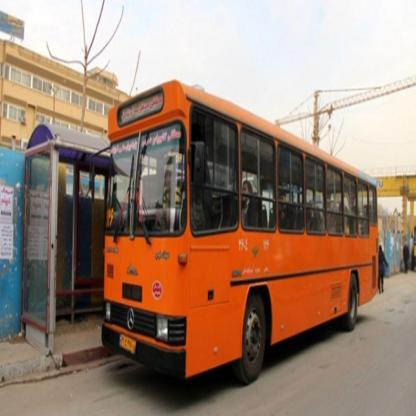Bus: (95, 72, 380, 376)
